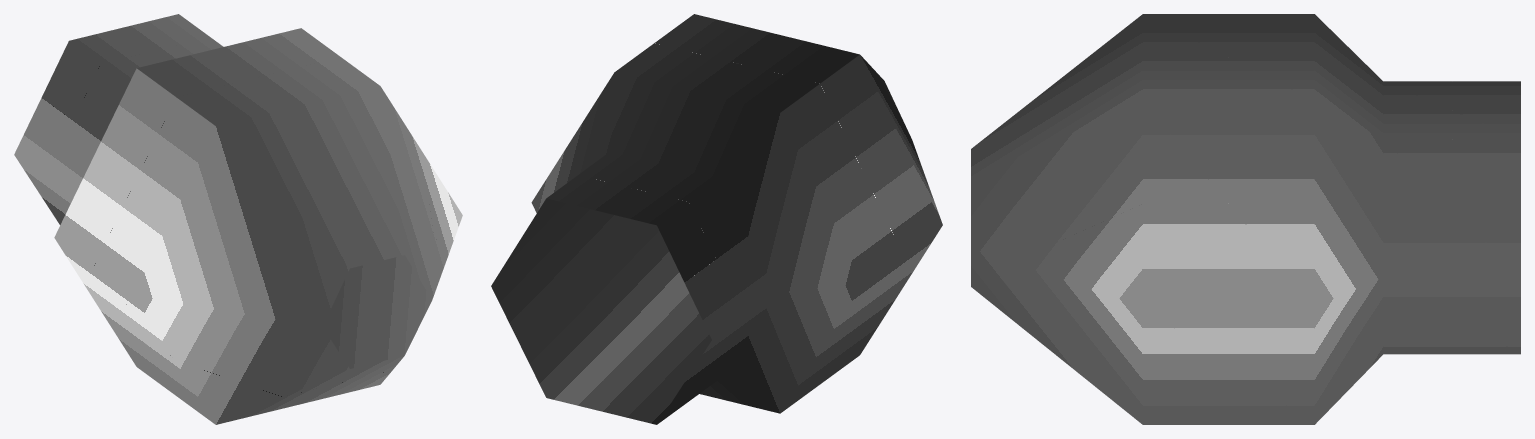
File: PchrgrenaderoundZ.obj
The picture shows the model from 3 angles, left to right: view 1: azimuth 30°, elevation 25°; view 2: azimuth 150°, elevation 25°; view 3: azimuth 270°, elevation 25°; orthographic projection. The views are drawn at different scales.
Bounding box in the file's own units: 120 × 104 × 160.
1 material, 1 textured.
